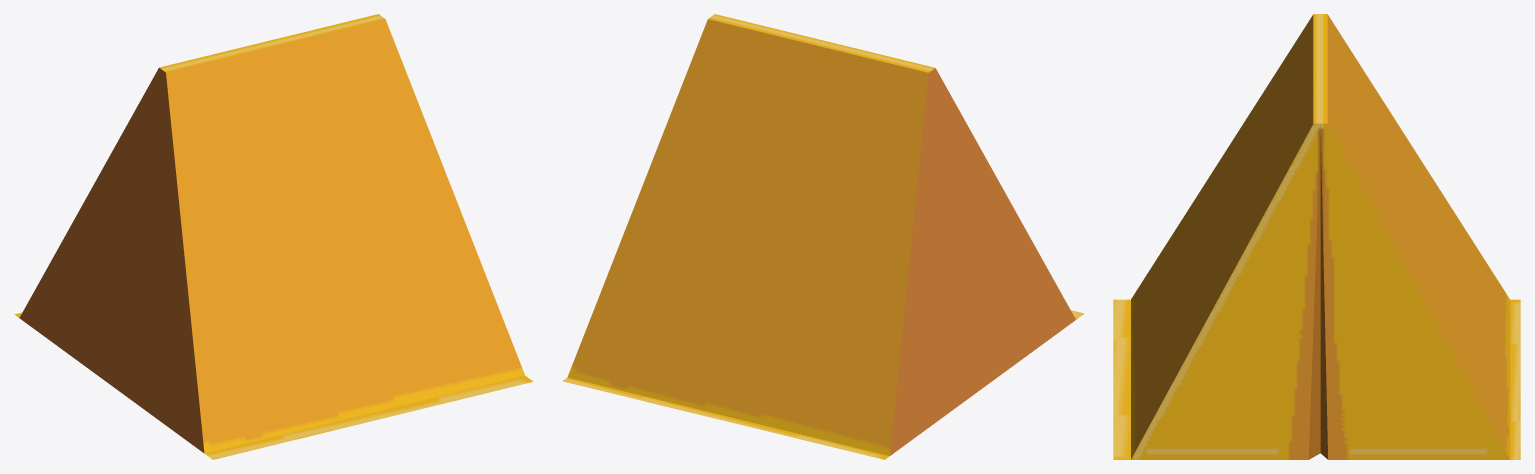
File: tent.fbx
3 renders of one model, left to right at view 1: azimuth 30°, elevation 25°; view 2: azimuth 150°, elevation 25°; view 3: azimuth 270°, elevation 25°, orthographic. The views are drawn at different scales.
Visible parts, largest first — view 1: tent; view 2: tent; view 3: tent.
Part boxes in pixels (x1,y1,x2,y2): tent: (14,14,533,459); tent: (562,14,1084,459); tent: (1113,14,1520,459).
Size of the model in its own units: 170 by 154 by 182.
